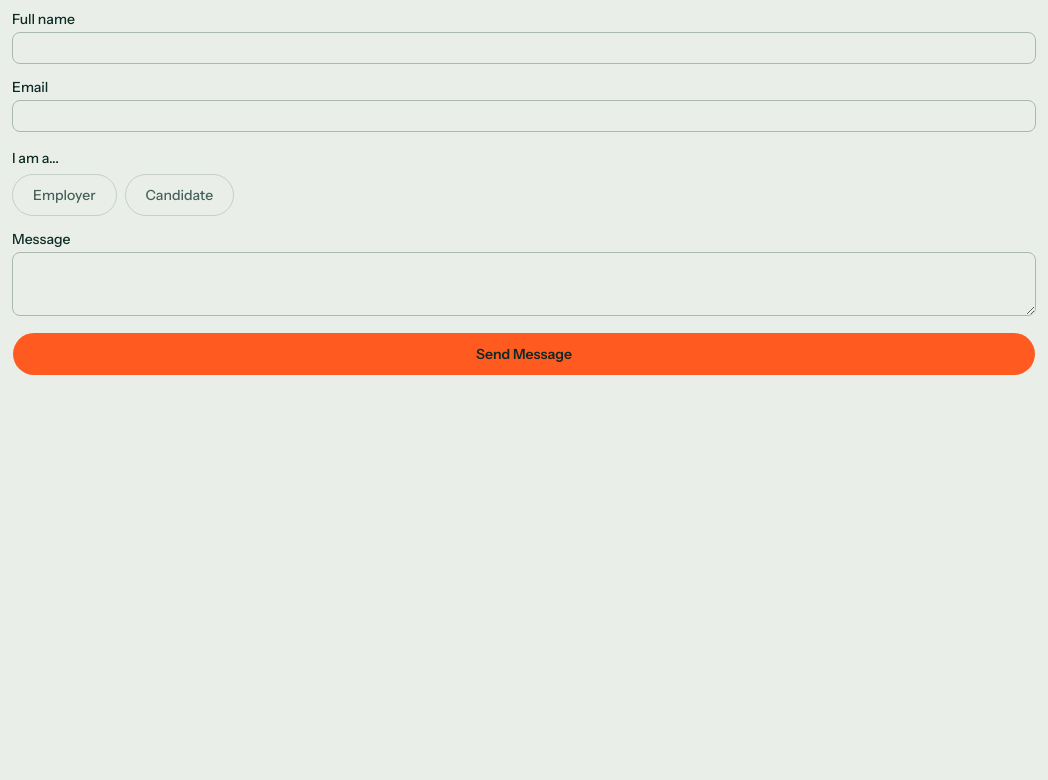
Test case: ContactForm › shows an error state when submission fails (Review Focus #1)
Type "Jordan Lee" into the field labelled "Full name" at coordinates (524, 48), box [12, 32, 1036, 64]
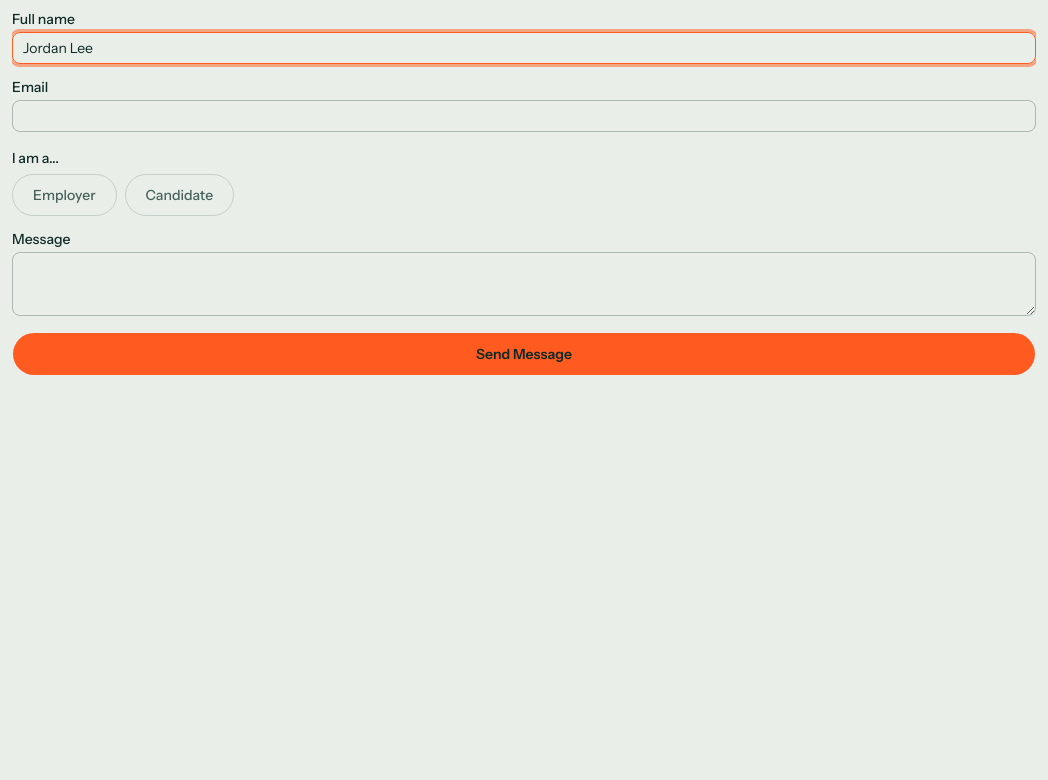
Type "jordan@example.com" into the field labelled "Email" at coordinates (524, 116), box [12, 100, 1036, 132]
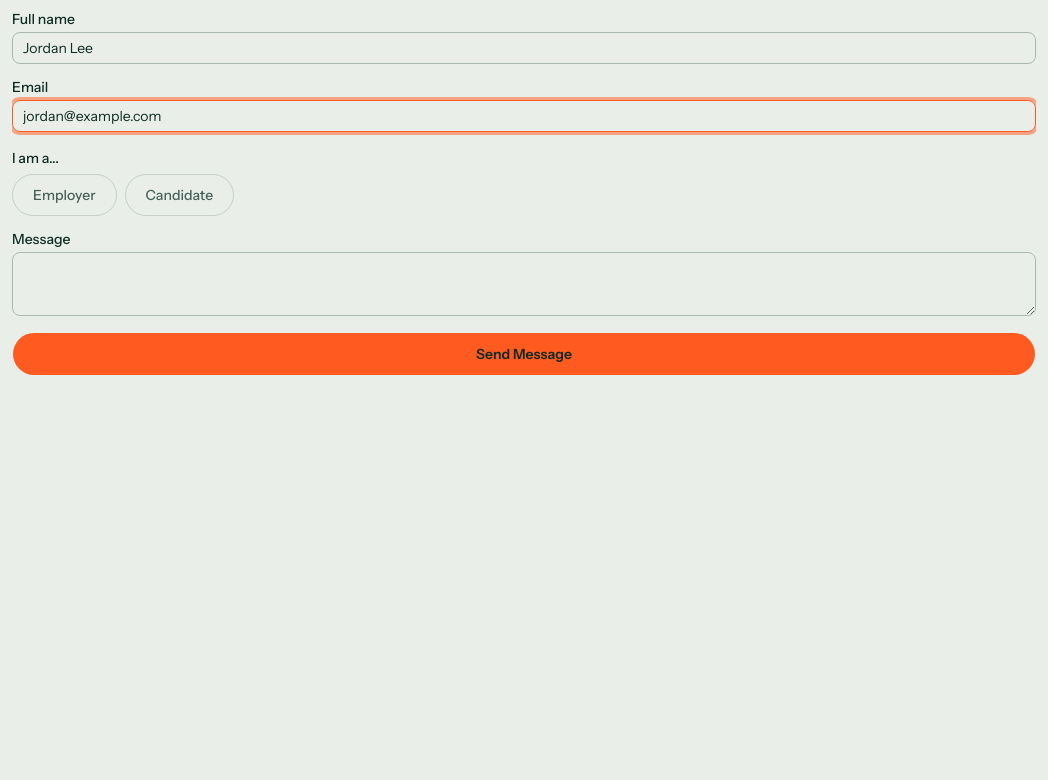
Click the radio button labelled "Employer" at coordinates (64, 195), box [12, 174, 117, 216]
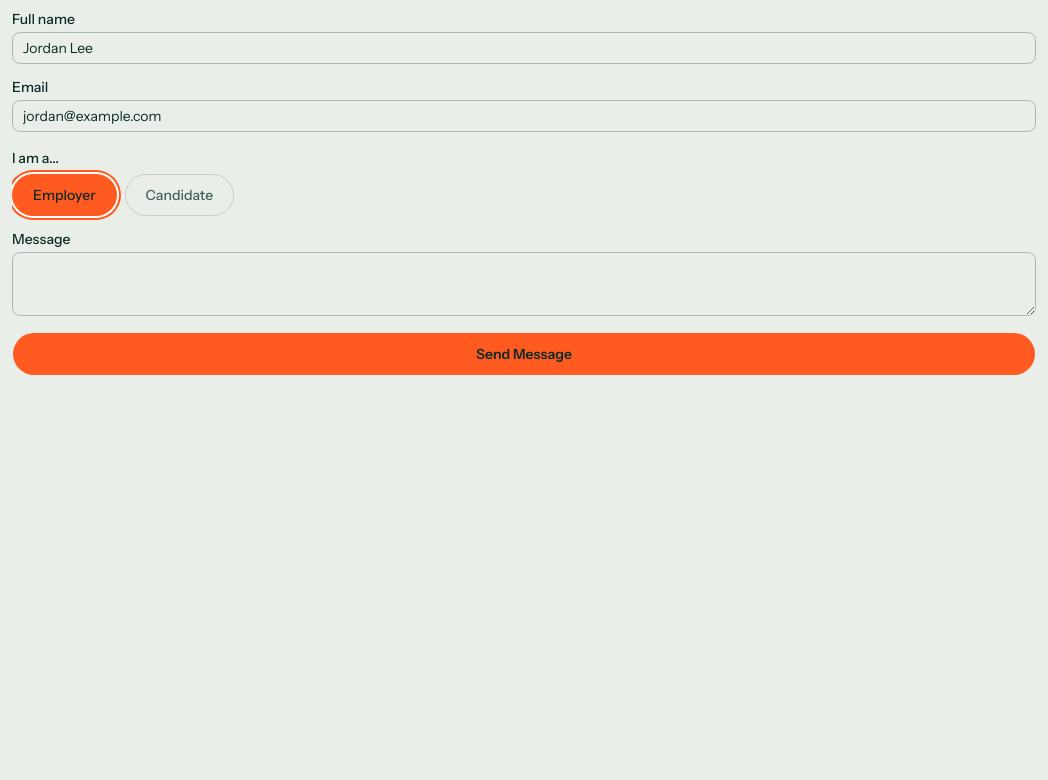
Type "We need to hire three engineers this quarter." into the text box labelled "Message" at coordinates (524, 284), box [12, 252, 1036, 316]
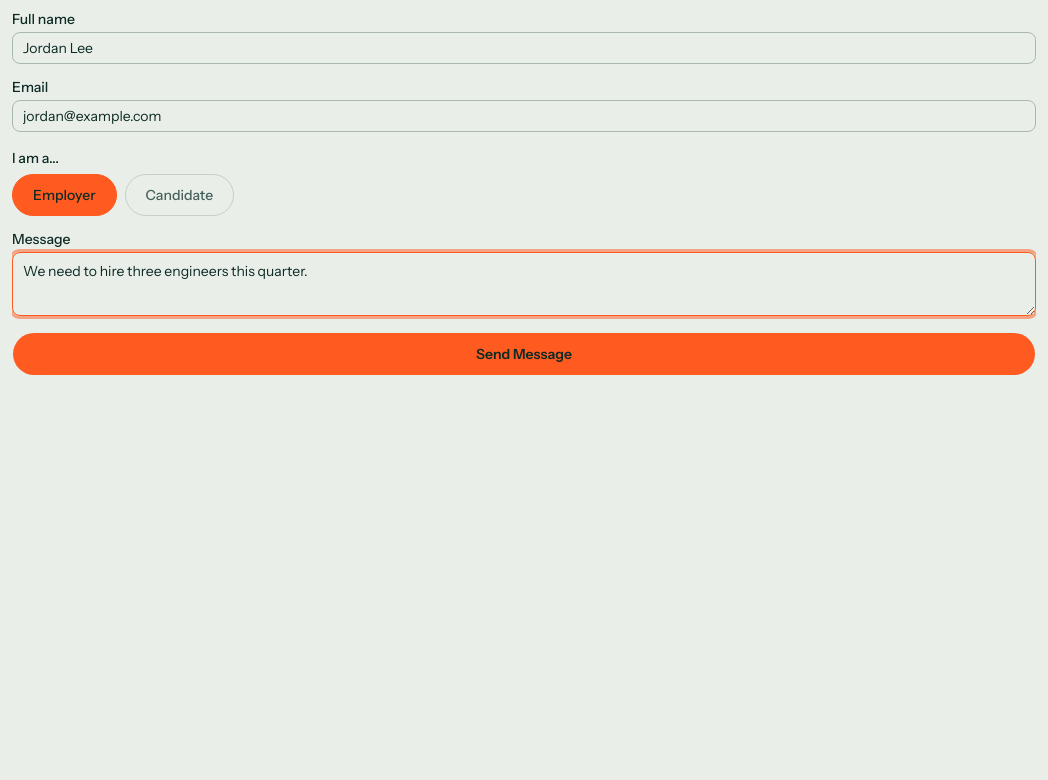
Click the button "Send Message" at coordinates (524, 354), box [12, 332, 1036, 376]
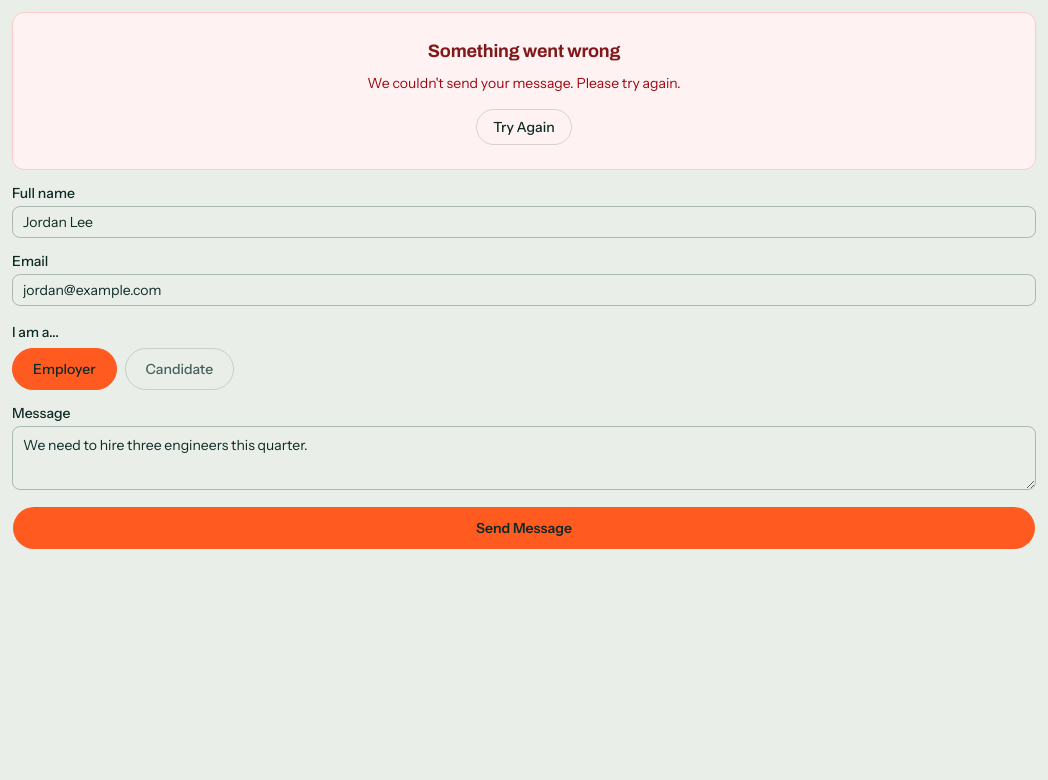
Expected: the message shows "couldn't send", [367, 74, 681, 92]
